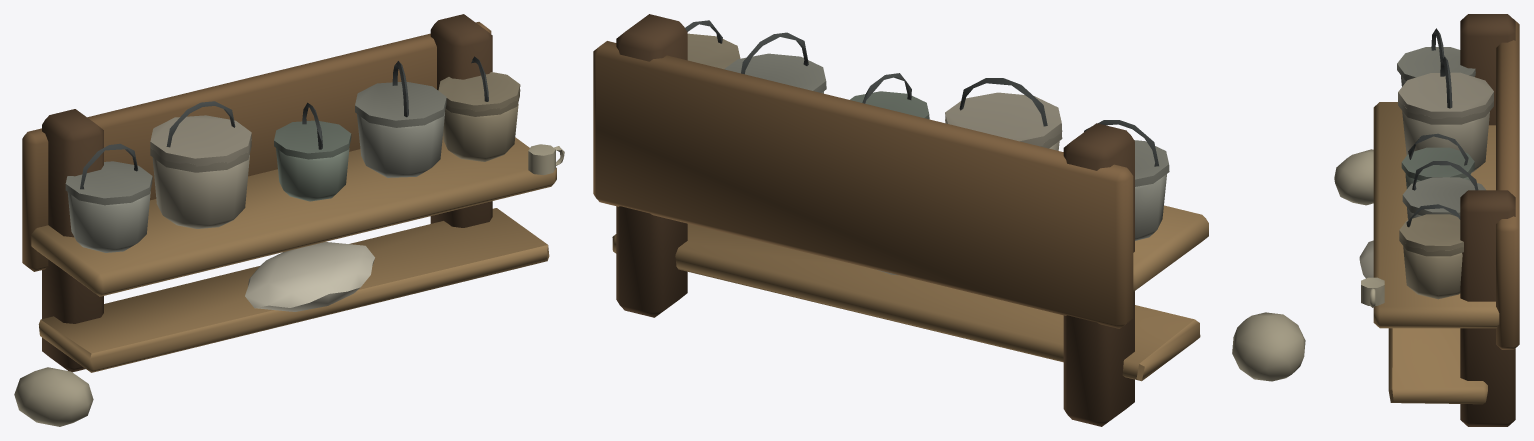
Rendered from lunch_shelf_a_lod1.glb.
3 views of the same model, side by side, from view 1: azimuth 30°, elevation 25°; view 2: azimuth 150°, elevation 25°; view 3: azimuth 270°, elevation 25° (orthographic). The views are drawn at different scales.
Parts seen in each view (by area): view 1: Surface.001; view 2: Surface.001; view 3: Surface.001.
Part boxes in pixels (x1=…): Surface.001: x1=14, y1=14, x2=564, y2=426; Surface.001: x1=593, y1=14, x2=1305, y2=426; Surface.001: x1=1334, y1=14, x2=1519, y2=426.
Bounding box in the file's own units: 2.94 × 1.29 × 0.9344.
